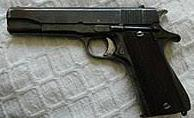gun: (1, 1, 194, 118)
